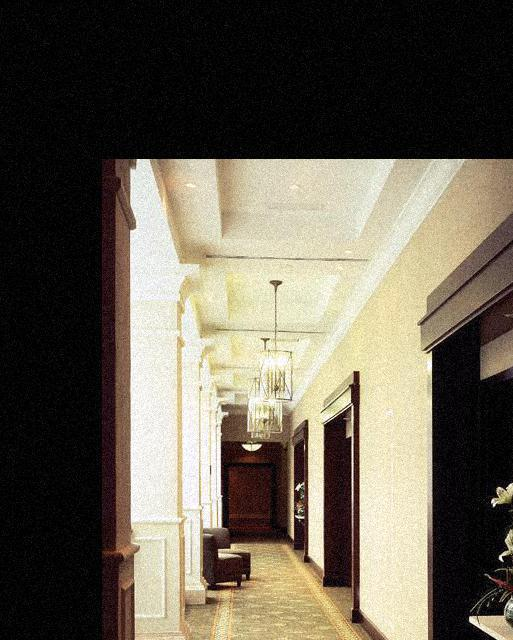Matera: (488, 475, 513, 640)
